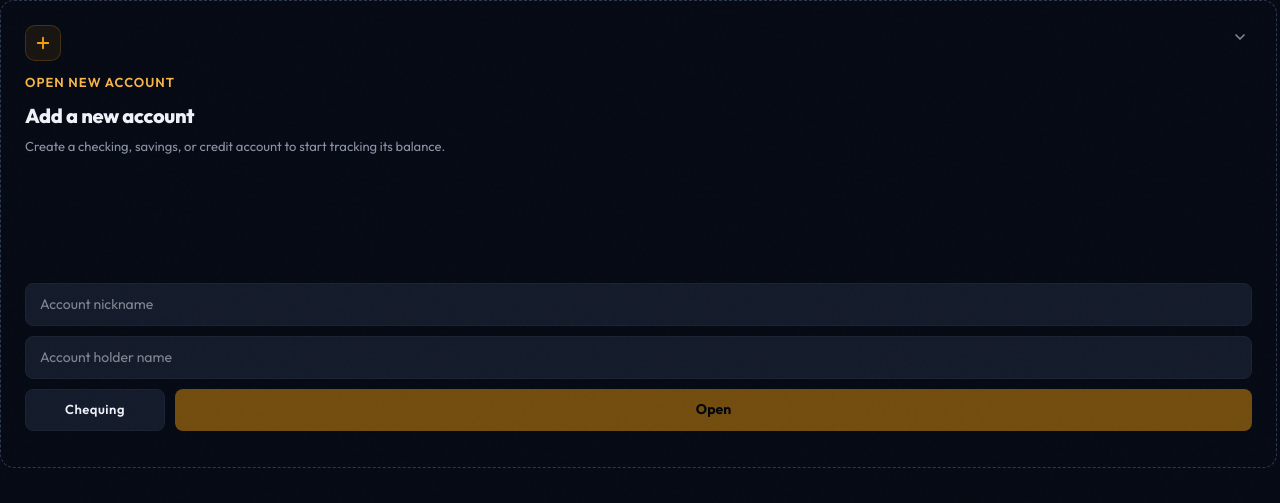
Test: OpenAccountCard › shows an inline error and does not toast when creation fails
Type "Dup" into the field with placeholder "Account holder name" at (638,358), box [25,336,1252,379]
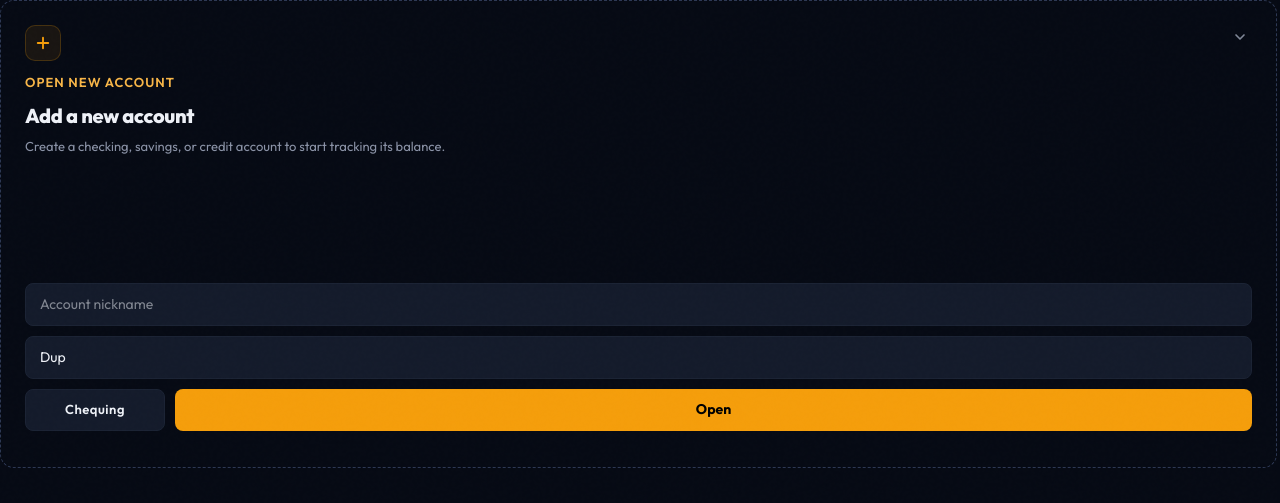
Click the button "Open" at (714,410), box [175,389,1252,430]
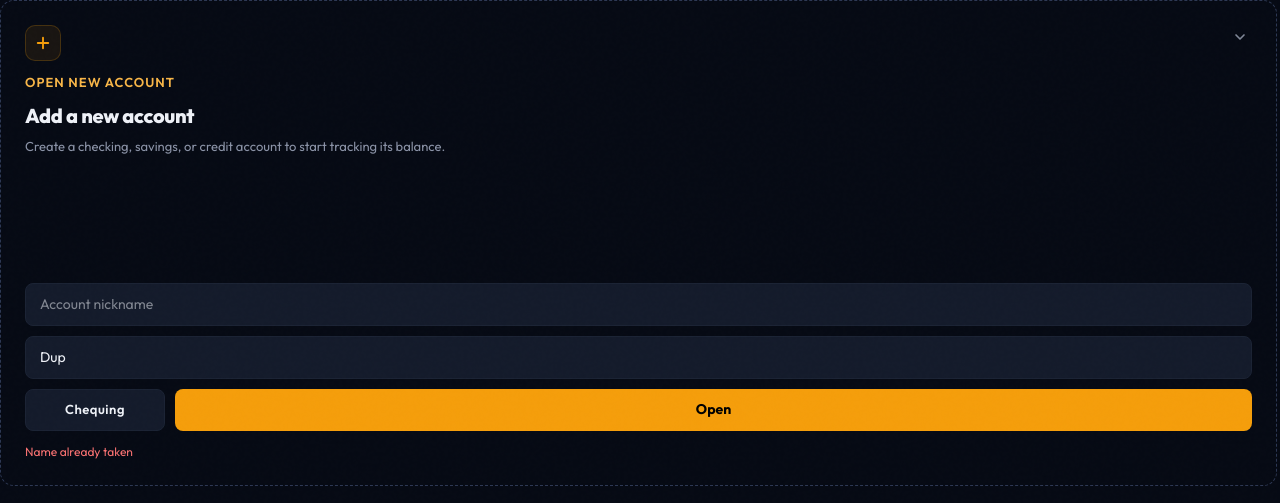
expect the text "Name already taken" is shown: met, box [25,444,133,458]
